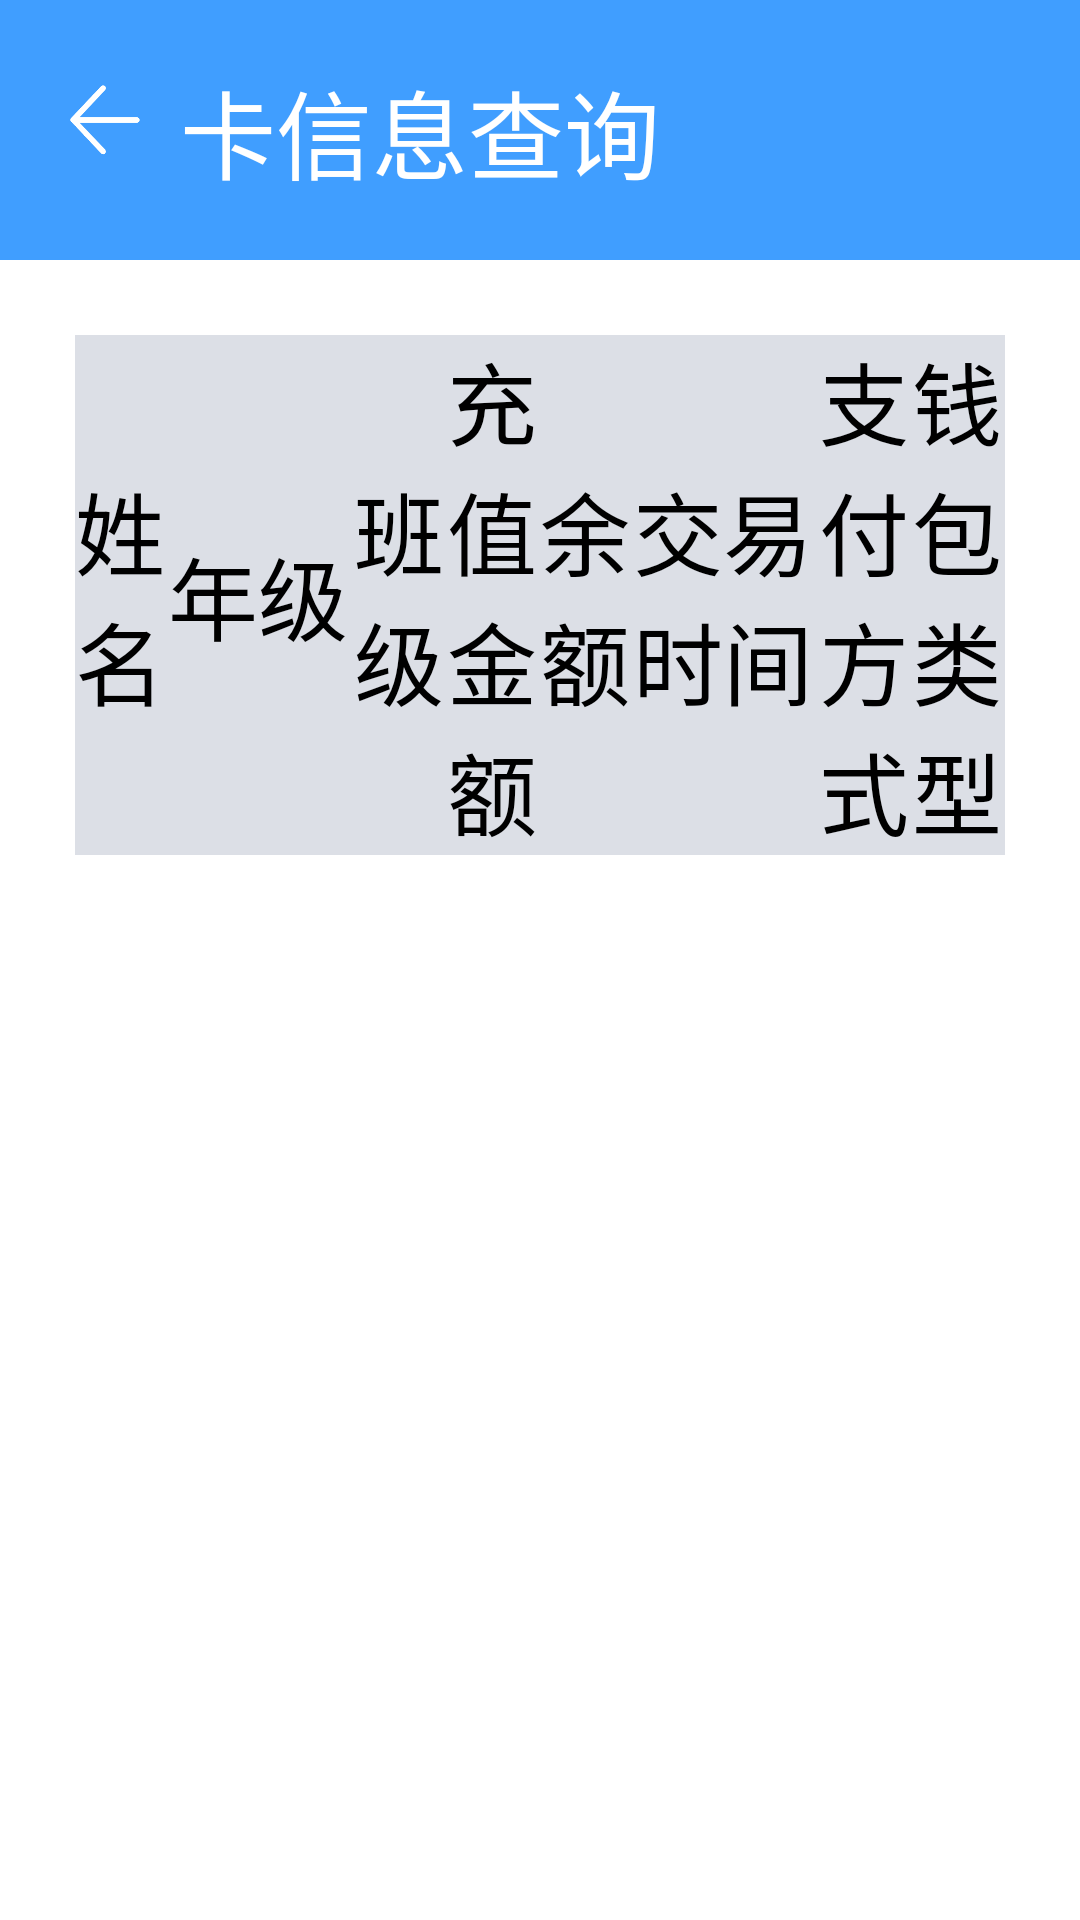

Icon click points for this 1080 × 1920 phone screenshot, format (x=x, y=y):
direction left: (x=105, y=119)
